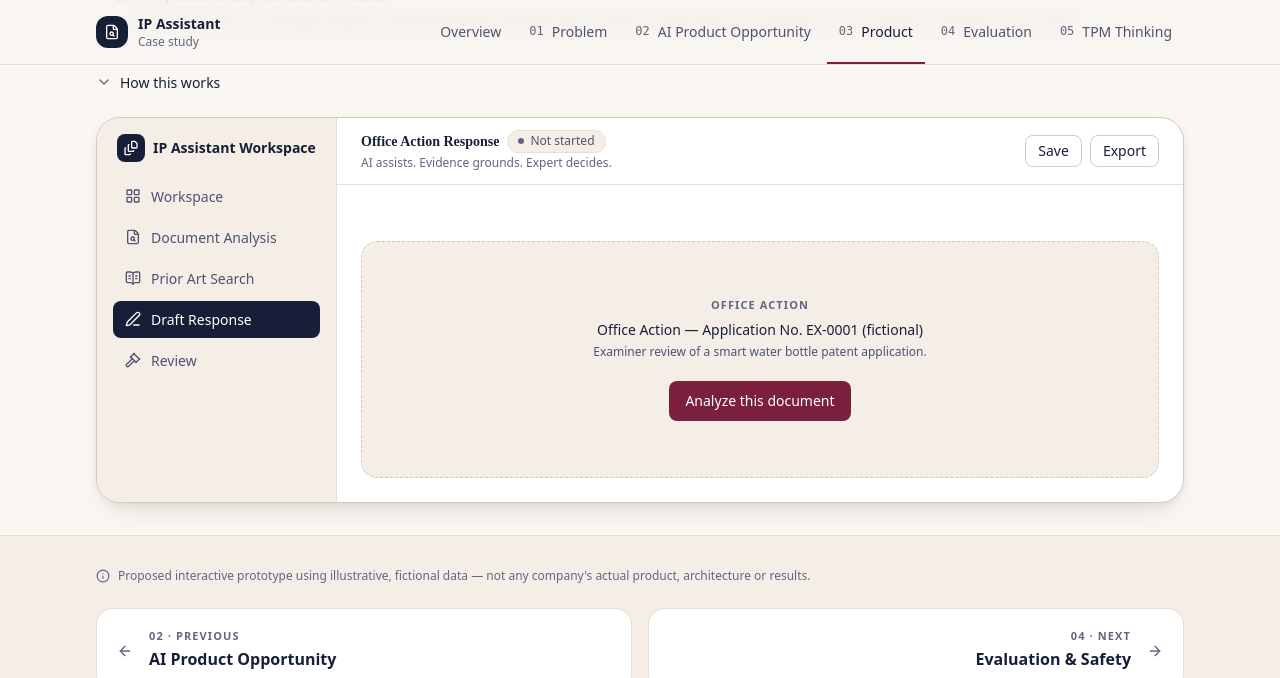
Test: Prototype page › clicking a document highlight opens the drawer scoped to that source
(page scrolled)
Click the button "Analyze this document" at (760, 400), box [669,380,850,420]
Wait 3900 ms
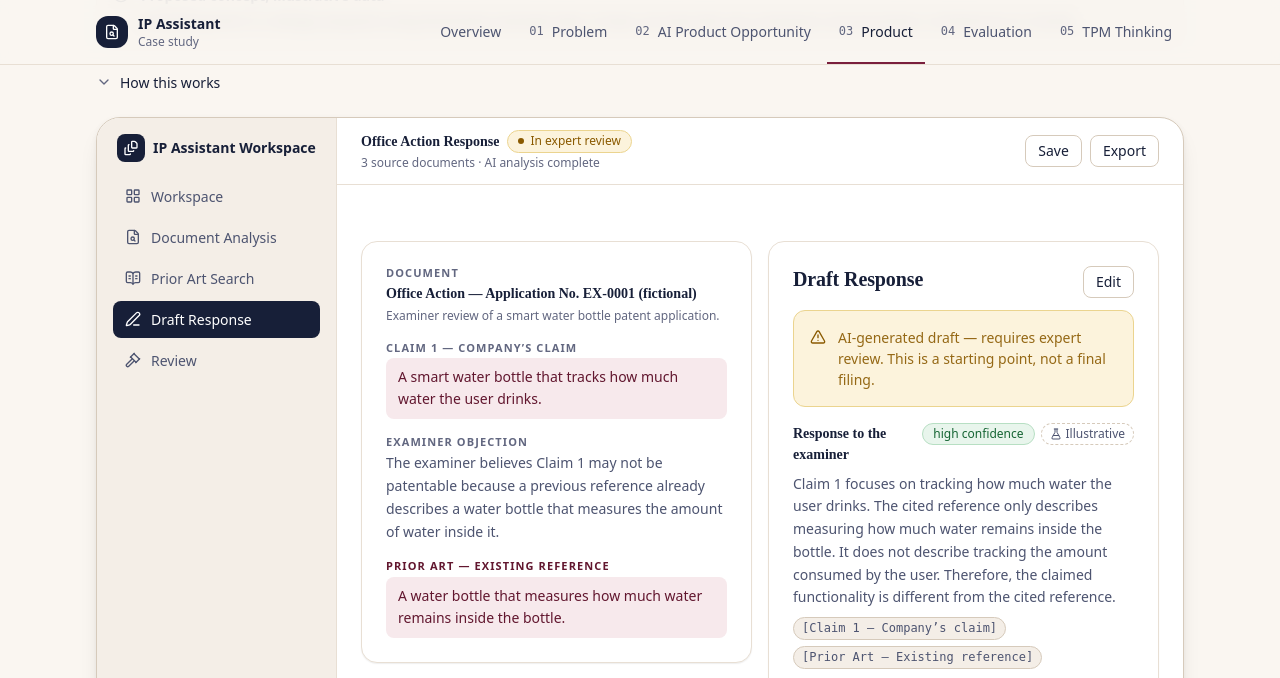
Click the button "smart water bottle that tracks" at (556, 388), box [386,358,727,419]
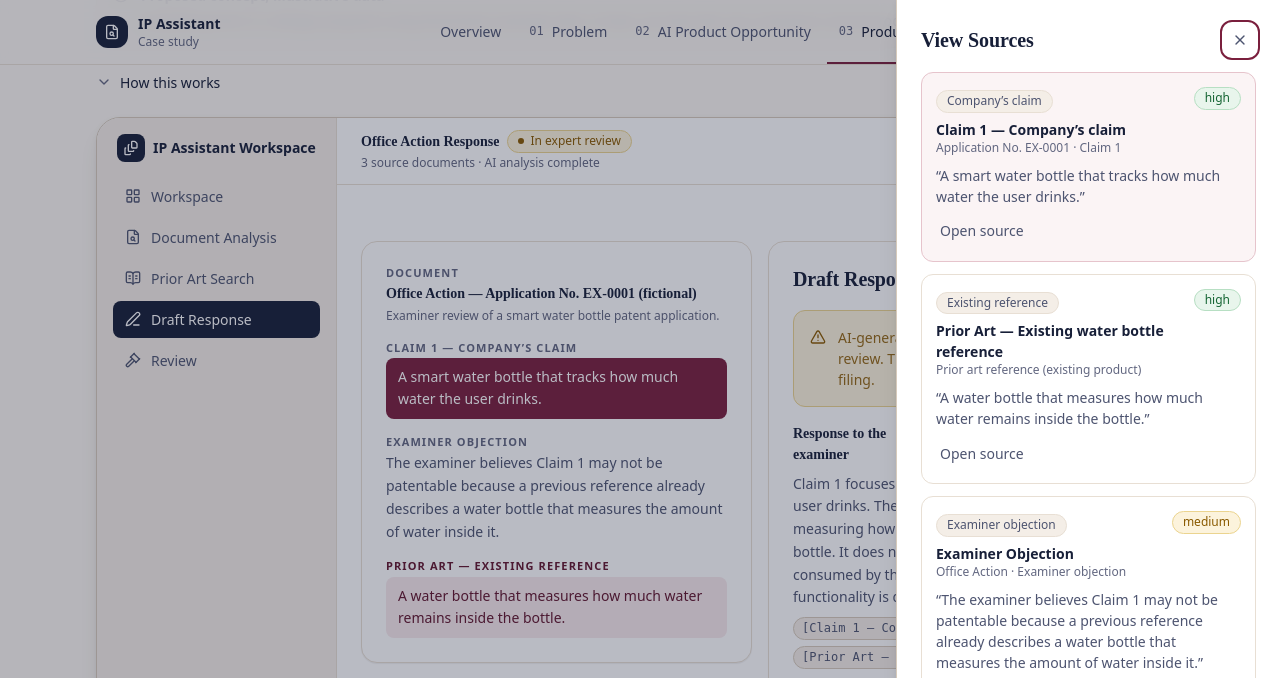
Now the text "Claim 1 — Company’s claim" is shown, box [936,119,1126,140]
